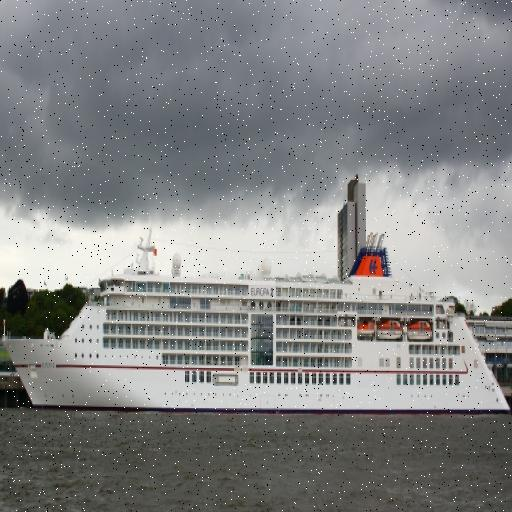cruises: (1, 217, 510, 419)
